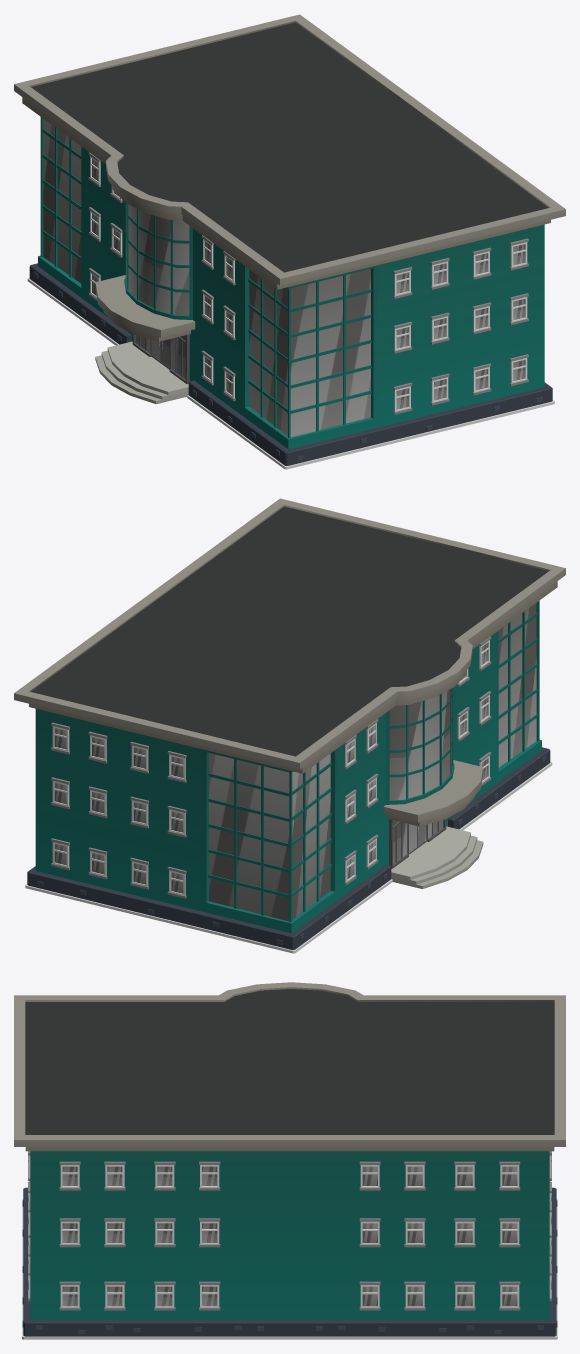
Rendered from Building_23_G.glb.
3 renders of one model, top to bottom at view 1: azimuth 30°, elevation 25°; view 2: azimuth 150°, elevation 25°; view 3: azimuth 270°, elevation 25°, orthographic. The views are drawn at different scales.
Parts seen in each view (by area): view 1: Building_23_G; view 2: Building_23_G; view 3: Building_23_G.
Part boxes in pixels (left/top/right/bottom): Building_23_G: left=14, top=14, right=565, bottom=469; Building_23_G: left=14, top=498, right=565, bottom=953; Building_23_G: left=14, top=982, right=565, bottom=1339.
Size of the model in its own units: 20.73 by 12.07 by 29.72.
Materials: 3 (3 with a texture image).
